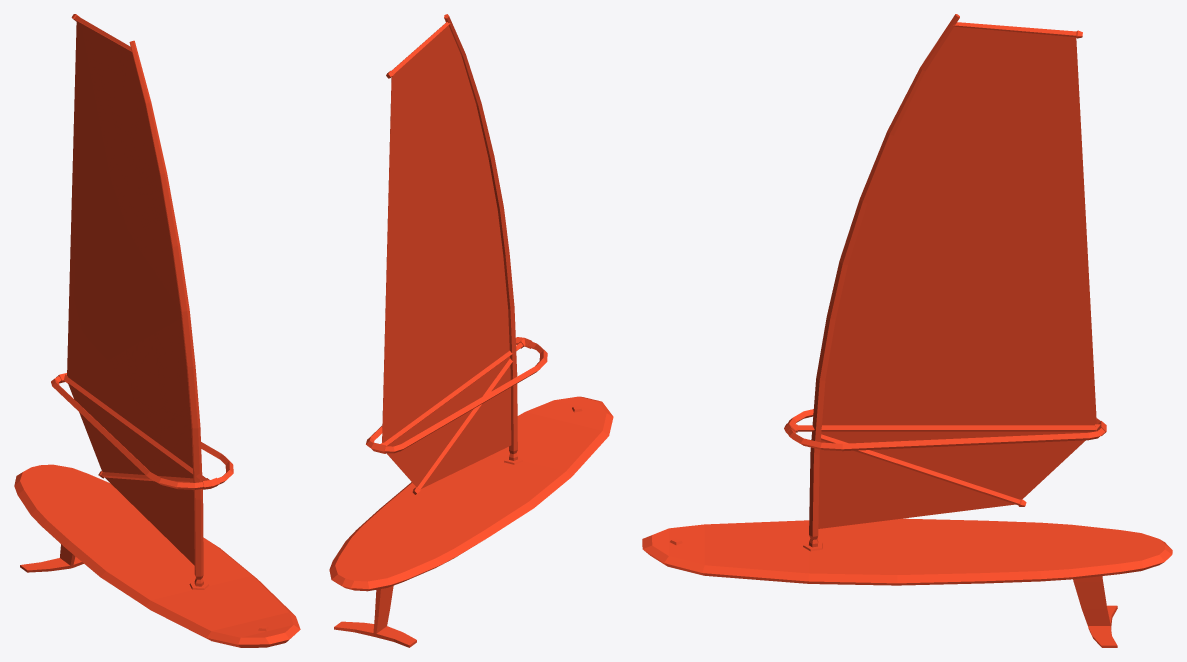
Rendered from SM_Windsurf_B_City.fbx.
The picture shows the model from 3 angles, left to right: view 1: azimuth 30°, elevation 25°; view 2: azimuth 150°, elevation 25°; view 3: azimuth 270°, elevation 25°; orthographic projection. The views are drawn at different scales.
Visible parts, largest first — view 1: SM_Windsurf_B_City; view 2: SM_Windsurf_B_City; view 3: SM_Windsurf_B_City.
Part boxes in pixels (x1,y1,x2,y2): SM_Windsurf_B_City: [14, 14, 300, 647]; SM_Windsurf_B_City: [329, 14, 613, 647]; SM_Windsurf_B_City: [642, 14, 1172, 647].
Size of the model in its own units: 0.9584 by 4.38 by 3.43.
